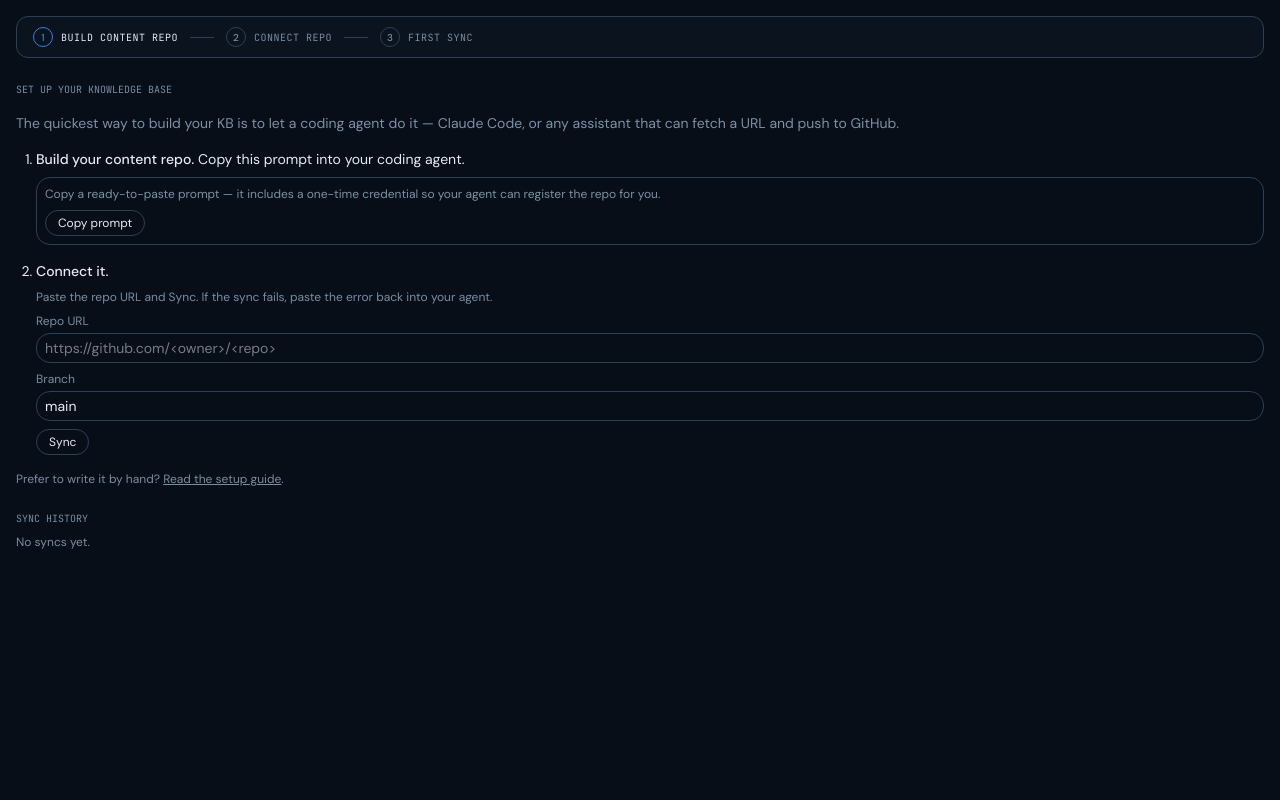
Test case: ContentTab › keeps the setup steps and shows the error when a sync fails in the empty state
Type "https://github.com/alex/queritae-content" into the field labelled "Repo URL".
click(650, 348); type("https://github.com/alex/queritae-content")  # box left=36, top=333, right=1264, bottom=363
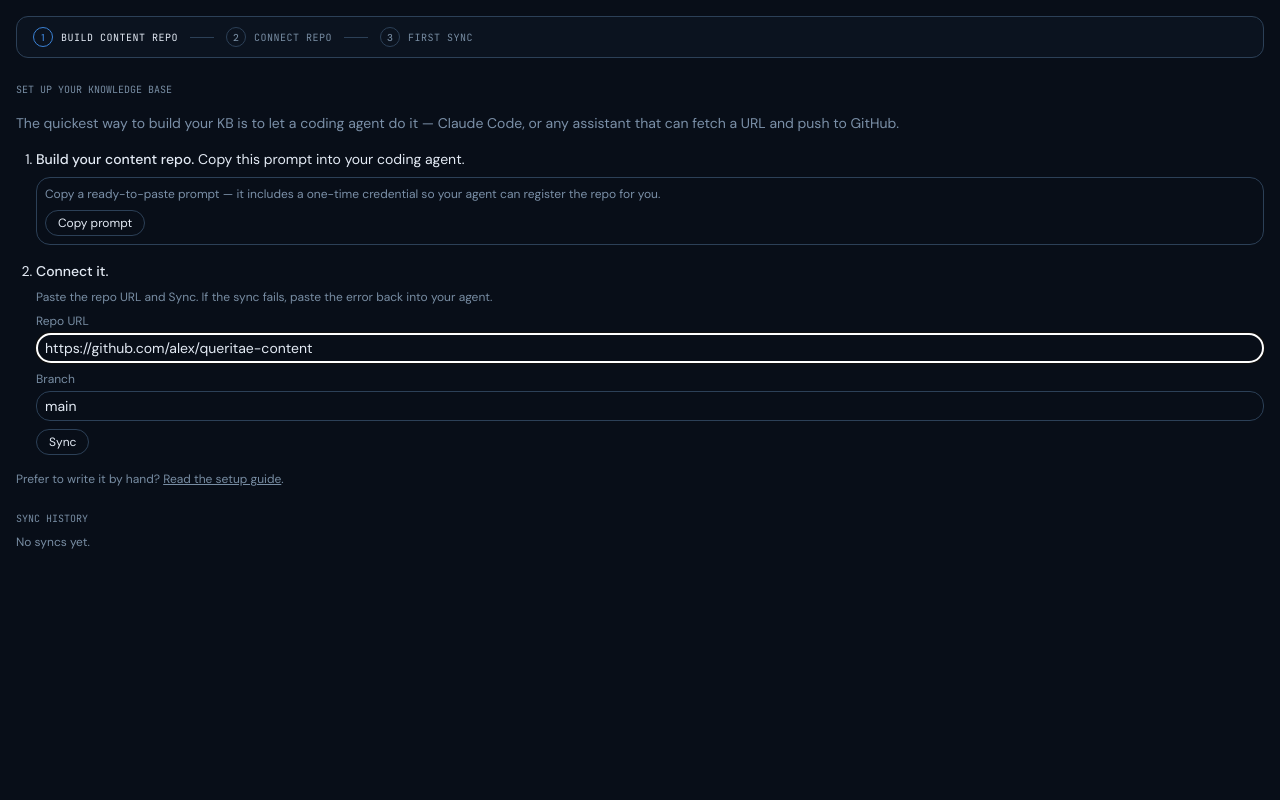
Click the button "Sync".
click(63, 442)  # box left=36, top=429, right=89, bottom=455
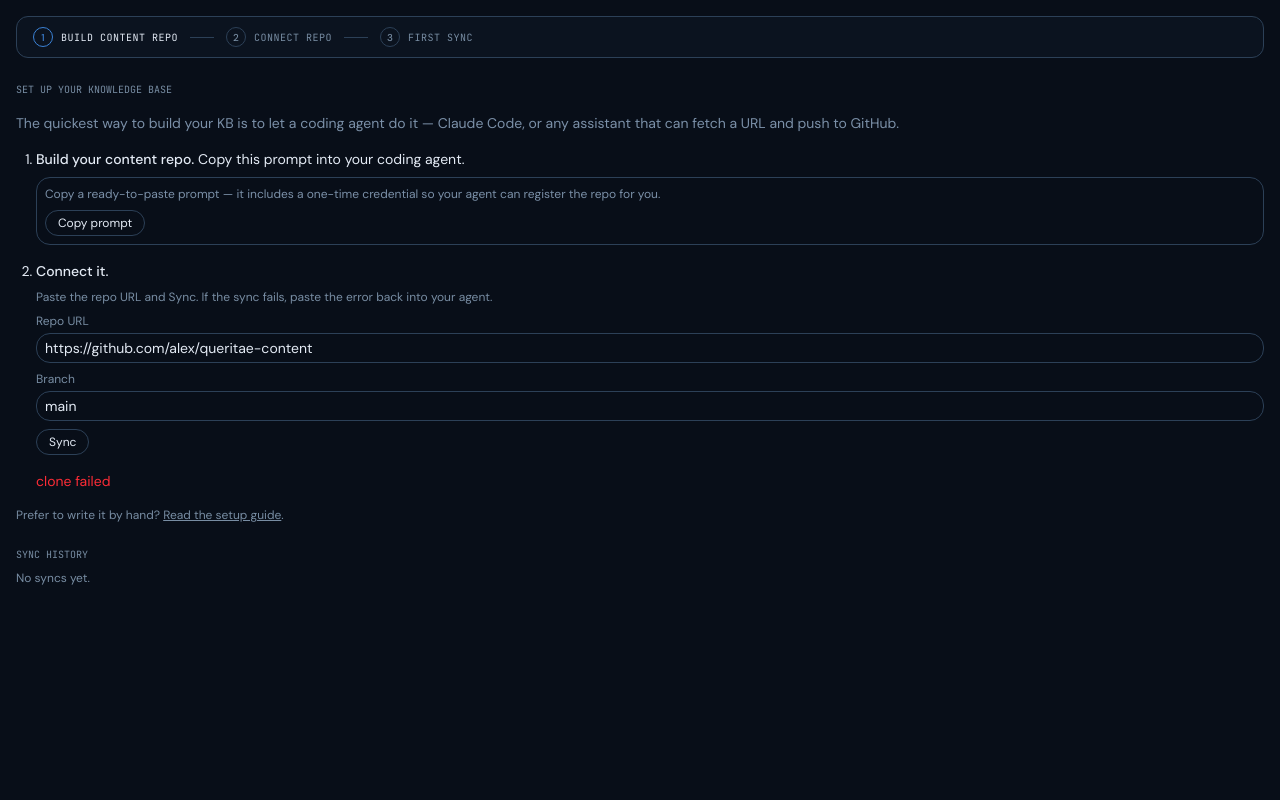
Expected: the heading "Set up your knowledge base" is shown, left=16, top=83, right=172, bottom=96
Result: the text "clone failed" is shown at left=36, top=472, right=110, bottom=490
